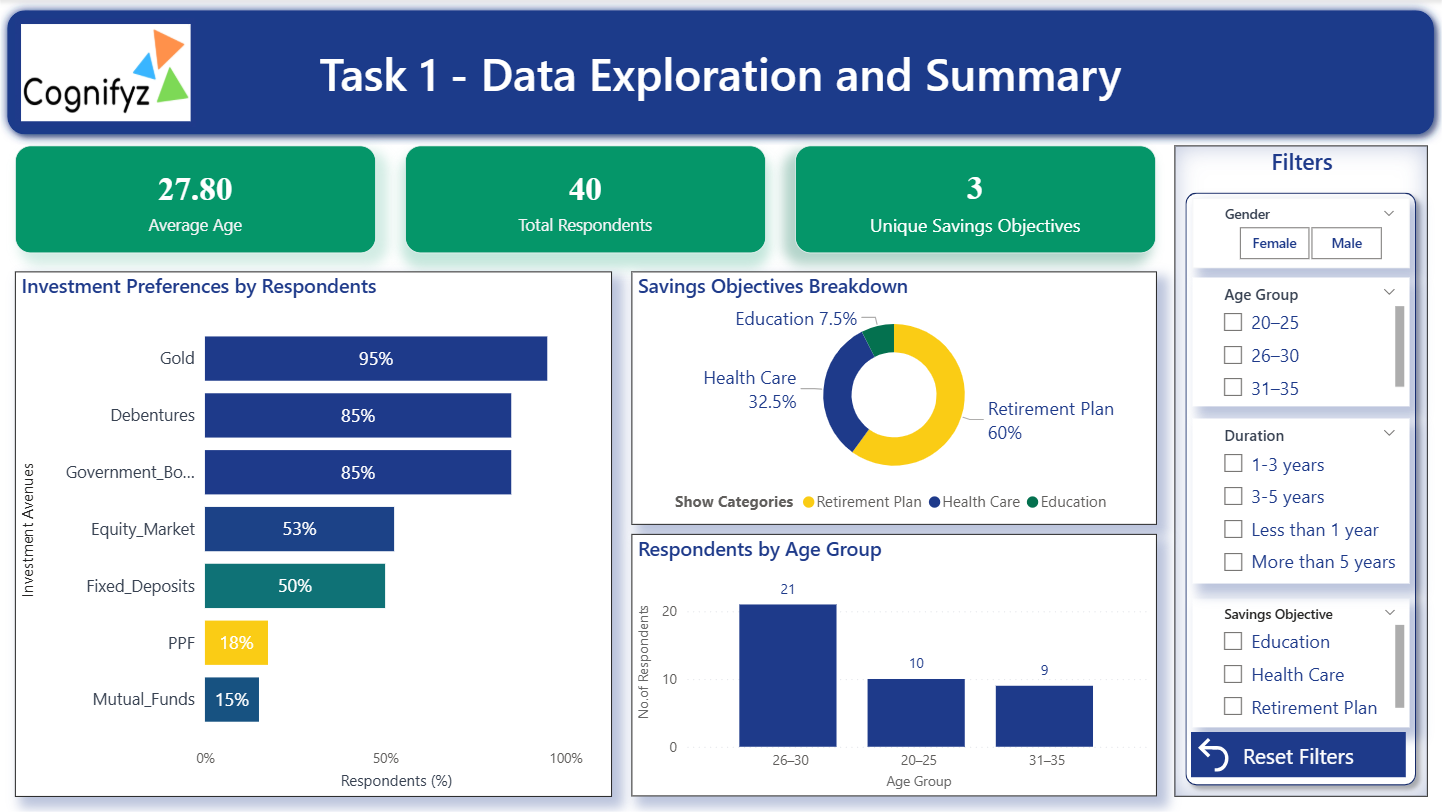

The page's visual inventory and layout, read from the dashboard file:
{"tool":"powerbi","page":{"name":"Task 1","canvas":[1280,720],"ordinal":0},"visuals":[{"type":"shape","box":[0,0,1280,128],"z":0},{"type":"shape","title":"Filters","box":[1041.9,129,224,576],"z":0,"group":"g1"},{"type":"card","fields":{"Values":["Survey.Average Age"]},"box":[15.9,129,319.5,95.3],"z":2000},{"type":"card","fields":{"Values":["Survey.Total Respondents"]},"box":[361.2,129,319.5,95.3],"z":3000},{"type":"card","fields":{"Values":["Survey.Unique Savings Objectives"]},"box":[706.5,129,319.5,95.3],"z":4000},{"type":"group","id":"g1","title":"Group 1","box":[1041.9,129,224,576],"z":5000},{"type":"slicer","title":"Gender","fields":{"Values":["Survey.Gender"]},"box":[1057.9,175.7,192,62.3],"z":6000,"group":"g1"},{"type":"donutChart","title":"Savings Objectives Breakdown","fields":{"Category":["Survey.What are your savings objectives?"],"Y":["Survey.Total Respondents"]},"box":[561.6,240.1,464.4,224.2],"z":6000},{"type":"clusteredBarChart","title":"Investment Preferences by Respondents","fields":{"Category":["Survey.Investment_Avenue"],"Y":["Survey.Investors4 %"]},"box":[15.9,240.1,527.9,464.4],"z":7000},{"type":"slicer","title":"Age ","fields":{"Values":["Survey.AgeGroup"]},"box":[1058.1,246,192.2,113.7],"z":7000,"group":"g1"},{"type":"clusteredColumnChart","title":"Respondents by Age Group","fields":{"Category":["Survey.AgeGroup"],"Y":["Survey.Total Respondents"]},"box":[561.6,472.3,464.4,232.2],"z":8000},{"type":"slicer","fields":{"Values":["Survey.What are your savings objectives?"]},"box":[1058.1,529.5,192.2,113.7],"z":8000,"group":"g1"},{"type":"image","box":[16,16,160,96],"z":9000},{"type":"slicer","fields":{"Values":["Survey.Duration"]},"box":[1058.1,370.9,192.2,145.8],"z":9000,"group":"g1"},{"type":"actionButton","box":[1056,648,190,40],"z":11000}]}

Visuals, with their boxes in screenshot pixels (x1, y1, x2, y2), scaled from the page's 1280x720 canvas onto the 1442x812 screenshot:
shape: crop(0, 0, 1441, 144)
"Filters" shape: crop(1174, 145, 1426, 795)
card - Survey.Average Age: crop(18, 145, 378, 253)
card - Survey.Total Respondents: crop(407, 145, 767, 253)
card - Survey.Unique Savings Objectives: crop(796, 145, 1156, 253)
"Group 1" group: crop(1174, 145, 1426, 795)
"Gender" slicer: crop(1192, 198, 1408, 268)
"Savings Objectives Breakdown" donutChart: crop(633, 271, 1156, 524)
"Investment Preferences by Respondents" clusteredBarChart: crop(18, 271, 613, 795)
"Age " slicer: crop(1192, 277, 1409, 406)
"Respondents by Age Group" clusteredColumnChart: crop(633, 533, 1156, 795)
slicer - Survey.What are your savings objectives?: crop(1192, 597, 1409, 725)
image: crop(18, 18, 198, 126)
slicer - Survey.Duration: crop(1192, 418, 1409, 583)
actionButton: crop(1190, 731, 1404, 776)
